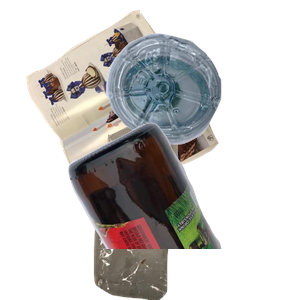glass: (66, 120, 300, 300)
paper: (24, 10, 235, 190)
plastic: (104, 31, 300, 168)
trash: (70, 120, 256, 300)
